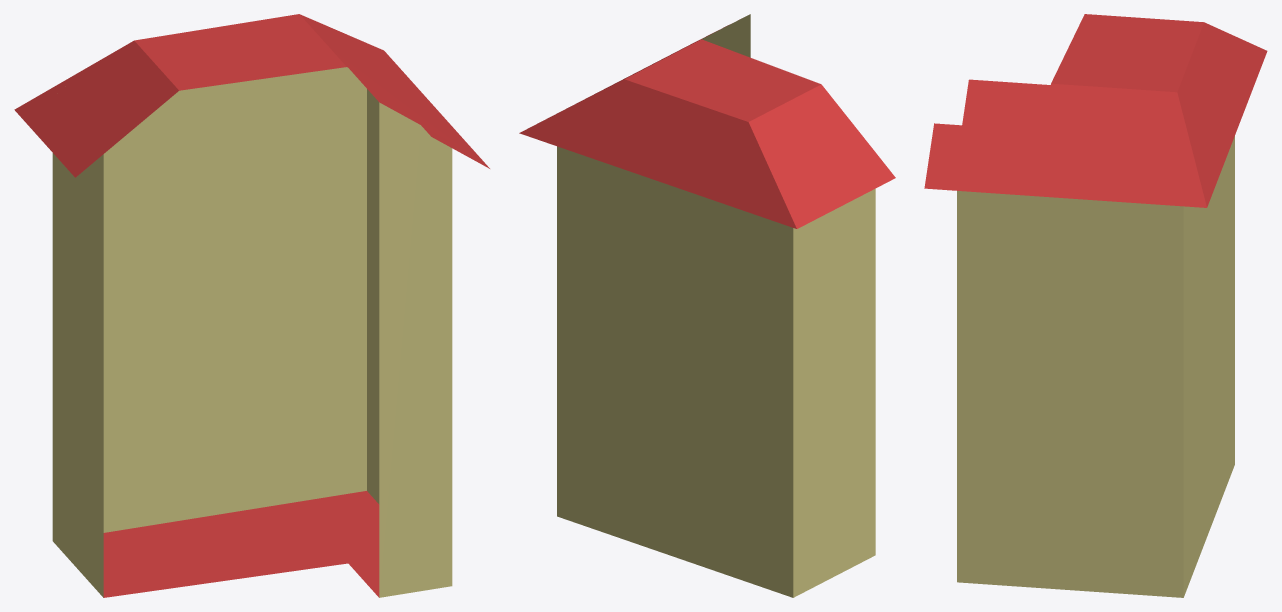
The picture shows the model from 3 angles, left to right: view 1: azimuth 30°, elevation 25°; view 2: azimuth 150°, elevation 25°; view 3: azimuth 270°, elevation 25°; orthographic projection. The views are drawn at different scales.
Bounding box in the file's own units: 7.03 × 6.06 × 9.21.
